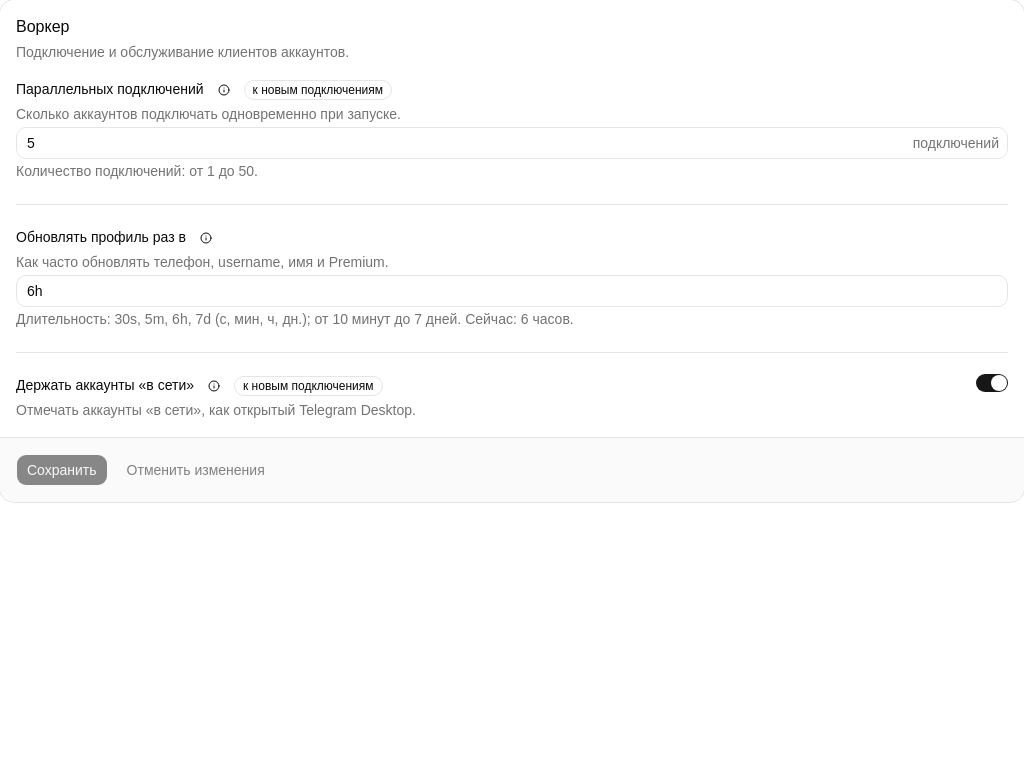
Test: SettingsGroupCard › validates with the shared schema and blocks saving invalid values
The width and height of the screenshot is (1024, 768).
Replace the text in the number field labelled "Параллельных подключений" with "0" at (465, 143), box 17,127 -> 913,159
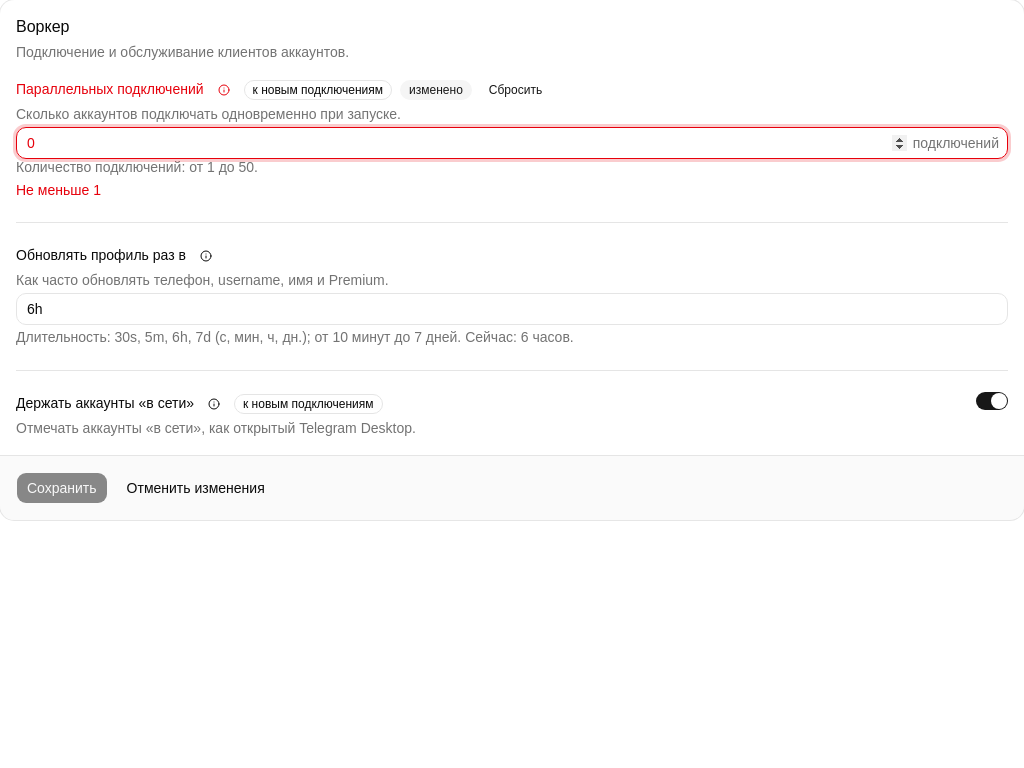
Expected: the button "Сохранить" is disabled, 16,472 -> 108,504
Result: the text "Не меньше 1" is shown at 16,182 -> 101,198
